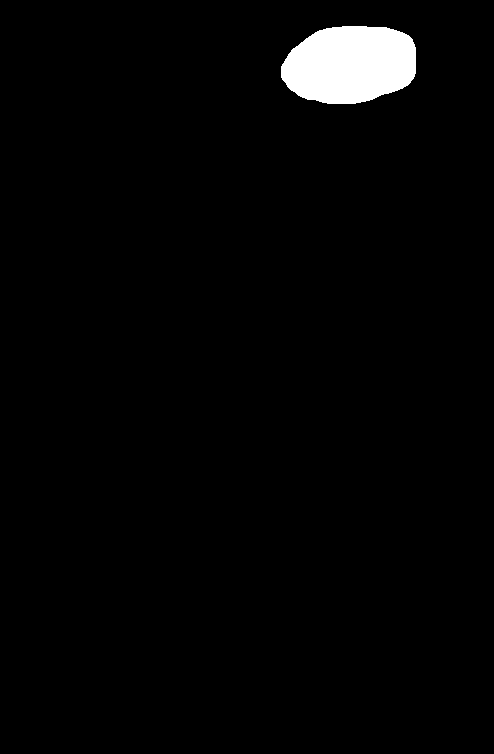veins_detect: (270, 22, 423, 109)
veins_seg: (281, 27, 415, 104)
